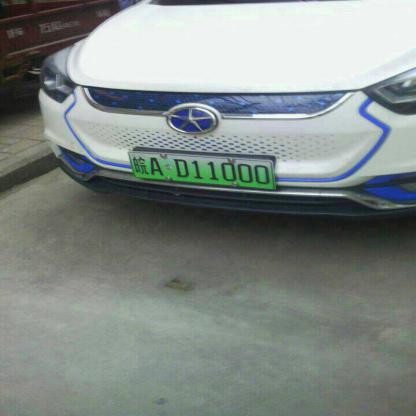lp: (127, 152, 274, 190)
